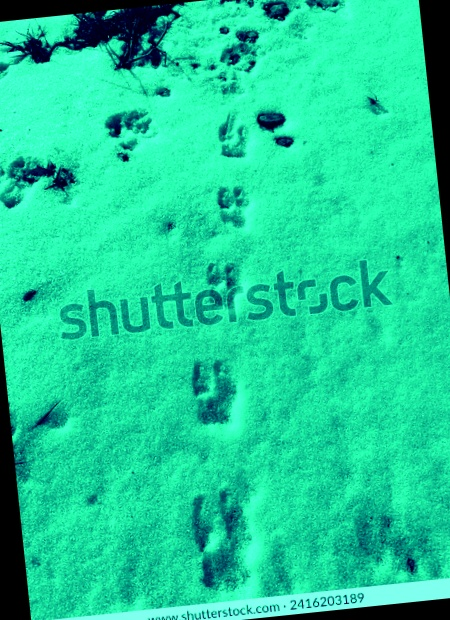lapin: (156, 473, 239, 600), (171, 348, 243, 436), (1, 127, 95, 189), (118, 89, 179, 165), (202, 254, 252, 320), (227, 182, 267, 235), (230, 105, 267, 159), (1, 28, 42, 73)
